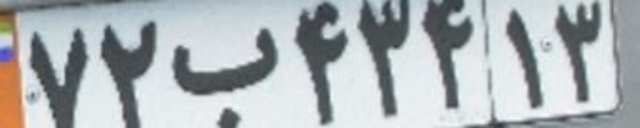1: (502, 8, 542, 107)
2: (99, 19, 158, 126)
3: (358, 0, 410, 117), (556, 0, 607, 102)
4: (288, 1, 349, 123), (422, 0, 474, 109)
7: (28, 27, 86, 126)
be: (172, 27, 276, 126)
